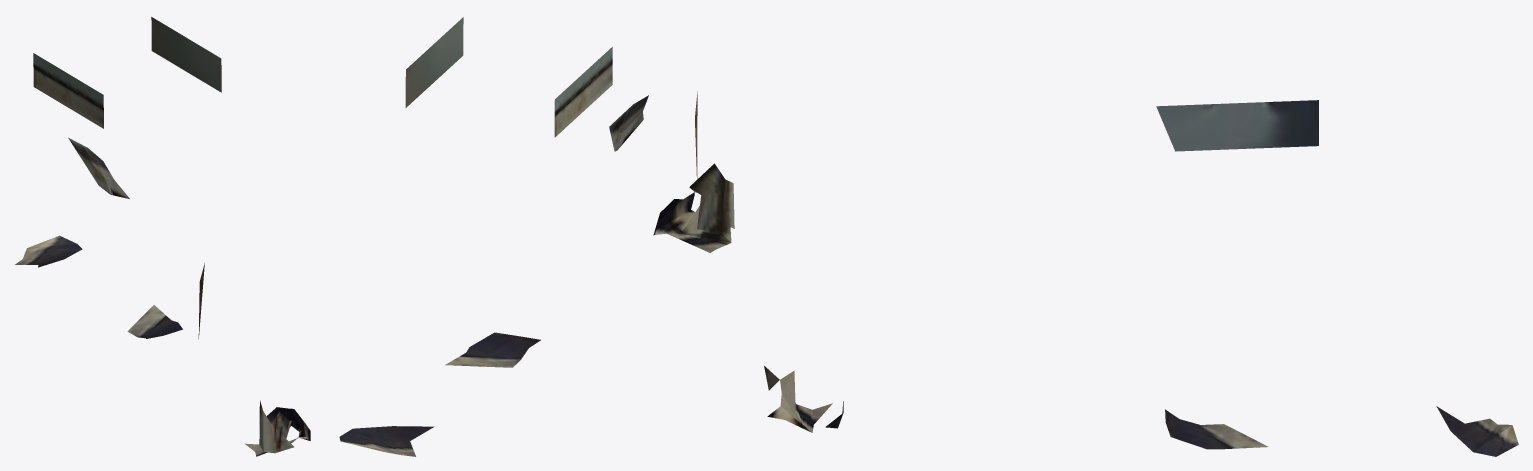
The model's file is hero-brandenburger-tor-3898_58196-material-4.glb.
The picture shows the model from 3 angles, left to right: view 1: azimuth 30°, elevation 25°; view 2: azimuth 150°, elevation 25°; view 3: azimuth 270°, elevation 25°; orthographic projection. The views are drawn at different scales.
Parts seen in each view (by area): view 1: world; view 2: world; view 3: world.
Part boxes in pixels (bbox=[...]): world: bbox=[15, 17, 310, 456]; world: bbox=[339, 17, 734, 456]; world: bbox=[764, 100, 1518, 456].
Bounding box in the file's own units: 11.34 × 19.97 × 36.74.
Materials: 1 (1 with a texture image).
